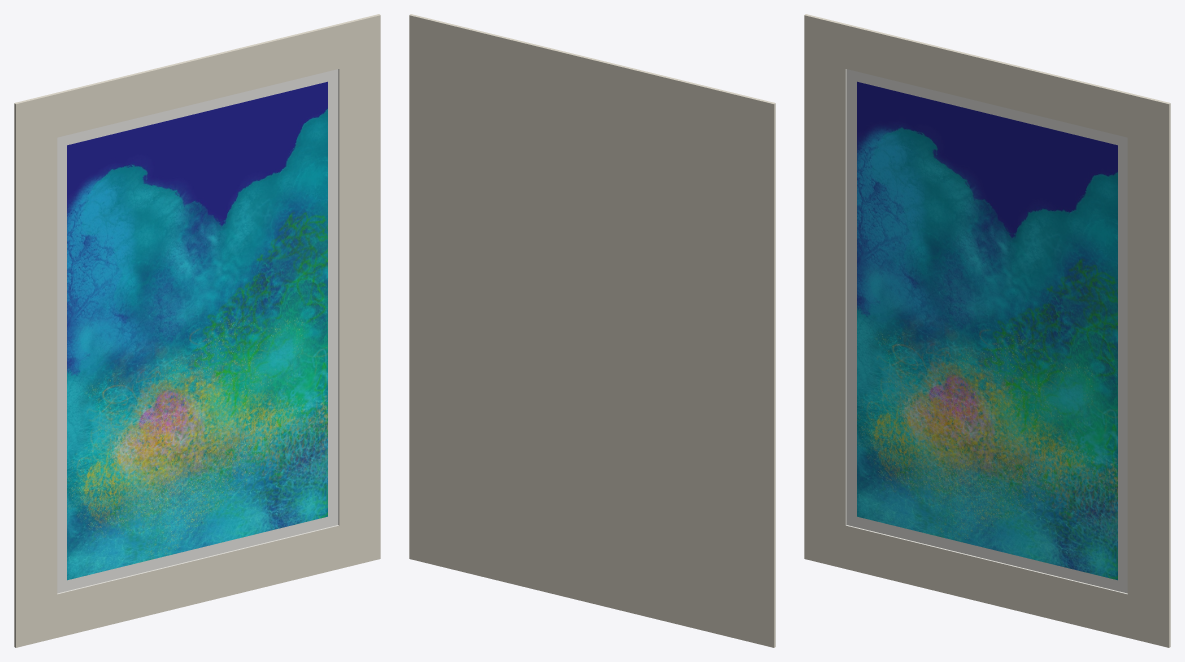
The model's file is os031_moyen_passe-partout.glb.
3 renders of one model, left to right at view 1: azimuth 30°, elevation 25°; view 2: azimuth 150°, elevation 25°; view 3: azimuth 330°, elevation 25°, orthographic.
Visible parts, largest first — view 1: os031_moyen_passe-partout; view 2: os031_moyen_passe-partout; view 3: os031_moyen_passe-partout.
Boxes of the visible parts, bbox=[...] form: os031_moyen_passe-partout: bbox=[14, 14, 380, 647]; os031_moyen_passe-partout: bbox=[409, 14, 775, 647]; os031_moyen_passe-partout: bbox=[804, 14, 1170, 647].
Size of the model in its own units: 0.7024 by 1 by 0.0055.
Materials: 4 (1 with a texture image).
